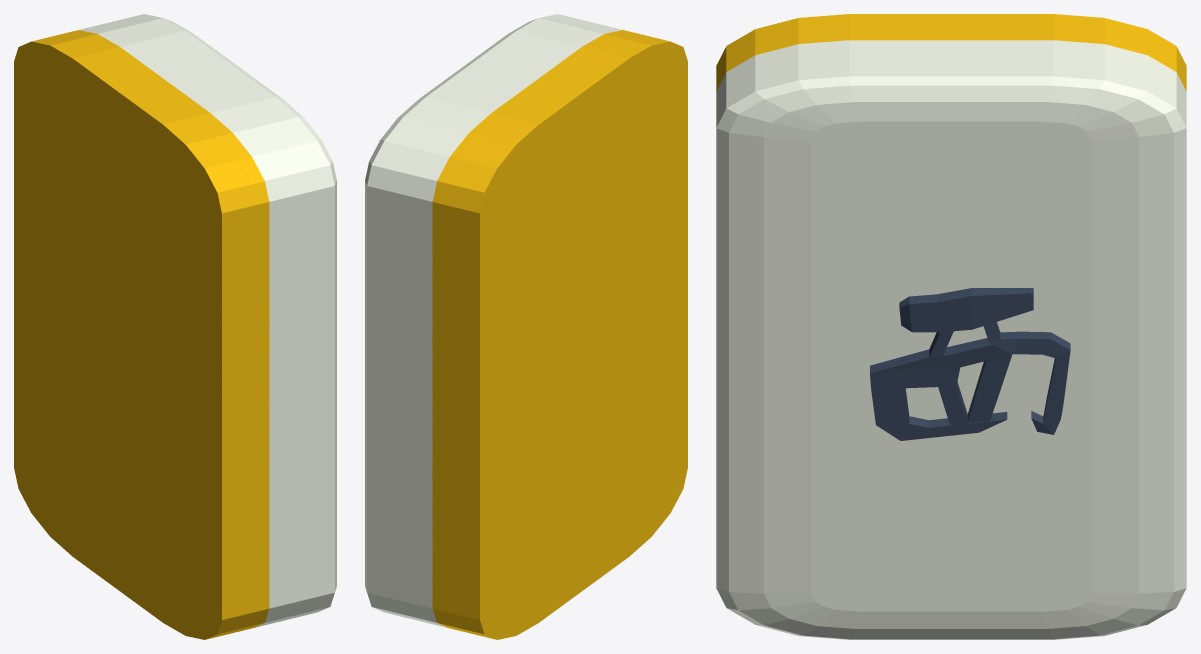
Rendered from Mahjong3.fbx.
3 views of the same model, side by side, from view 1: azimuth 30°, elevation 25°; view 2: azimuth 150°, elevation 25°; view 3: azimuth 270°, elevation 25° (orthographic). The views are drawn at different scales.
Parts seen in each view (by area): view 1: Cube.001; view 2: Cube.001; view 3: Cube.001, Cube.
Part boxes in pixels (x1,y1,x2,y2): Cube.001: [14, 14, 336, 639]; Cube.001: [365, 14, 687, 639]; Cube.001: [716, 14, 1186, 639]; Cube: [870, 288, 1070, 440].
Bounding box in the file's own units: 175 × 583 × 441.
